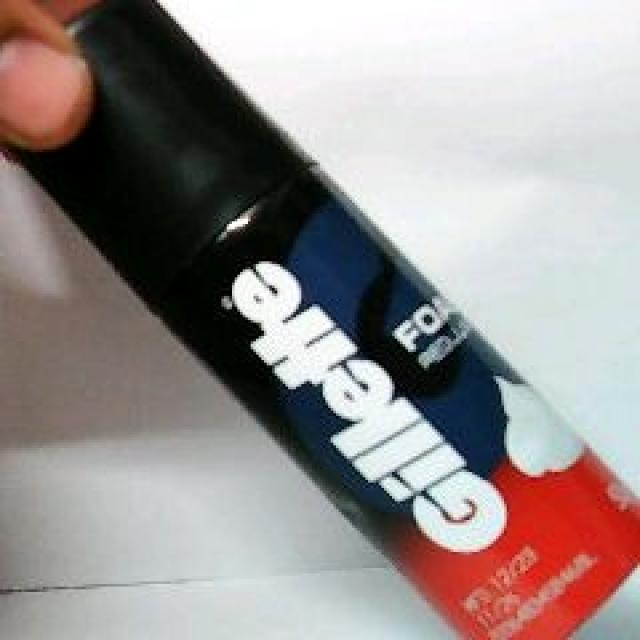gillette-foam: (3, 0, 637, 637)
